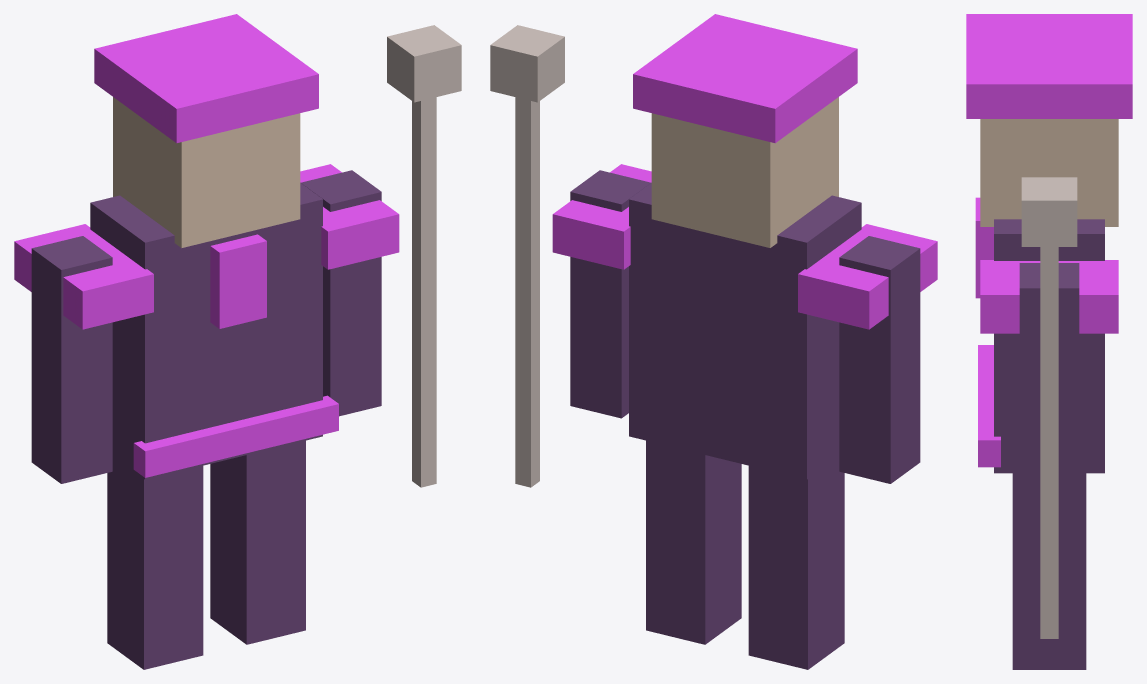
File: 20_varren_frostrelay_watcher_under_pawn.glb
3 renders of one model, left to right at view 1: azimuth 30°, elevation 25°; view 2: azimuth 150°, elevation 25°; view 3: azimuth 270°, elevation 25°, orthographic.
Visible parts, largest first — view 1: Varren Frostrelay, Watcher under Pawn; view 2: Varren Frostrelay, Watcher under Pawn; view 3: Varren Frostrelay, Watcher under Pawn.
Boxes of the visible parts, <box> form: Varren Frostrelay, Watcher under Pawn: <box>14,14,461,669</box>; Varren Frostrelay, Watcher under Pawn: <box>490,14,937,669</box>; Varren Frostrelay, Watcher under Pawn: <box>966,14,1132,669</box>.
Size of the model in its own units: 1.01 by 1.39 by 0.3596.
